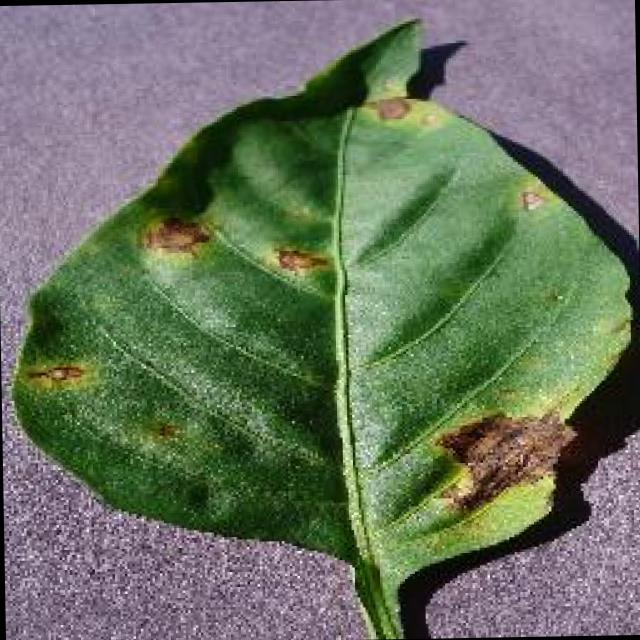Chilli_Bacterial_Spot: (0, 12, 640, 640), (426, 406, 578, 520), (358, 90, 444, 136), (136, 210, 212, 260), (268, 240, 332, 281), (21, 359, 89, 390), (139, 412, 185, 448), (369, 93, 412, 124), (512, 187, 546, 214)
